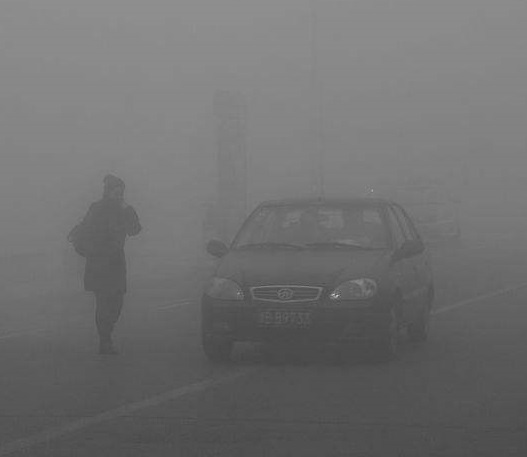person: (66, 170, 145, 358)
